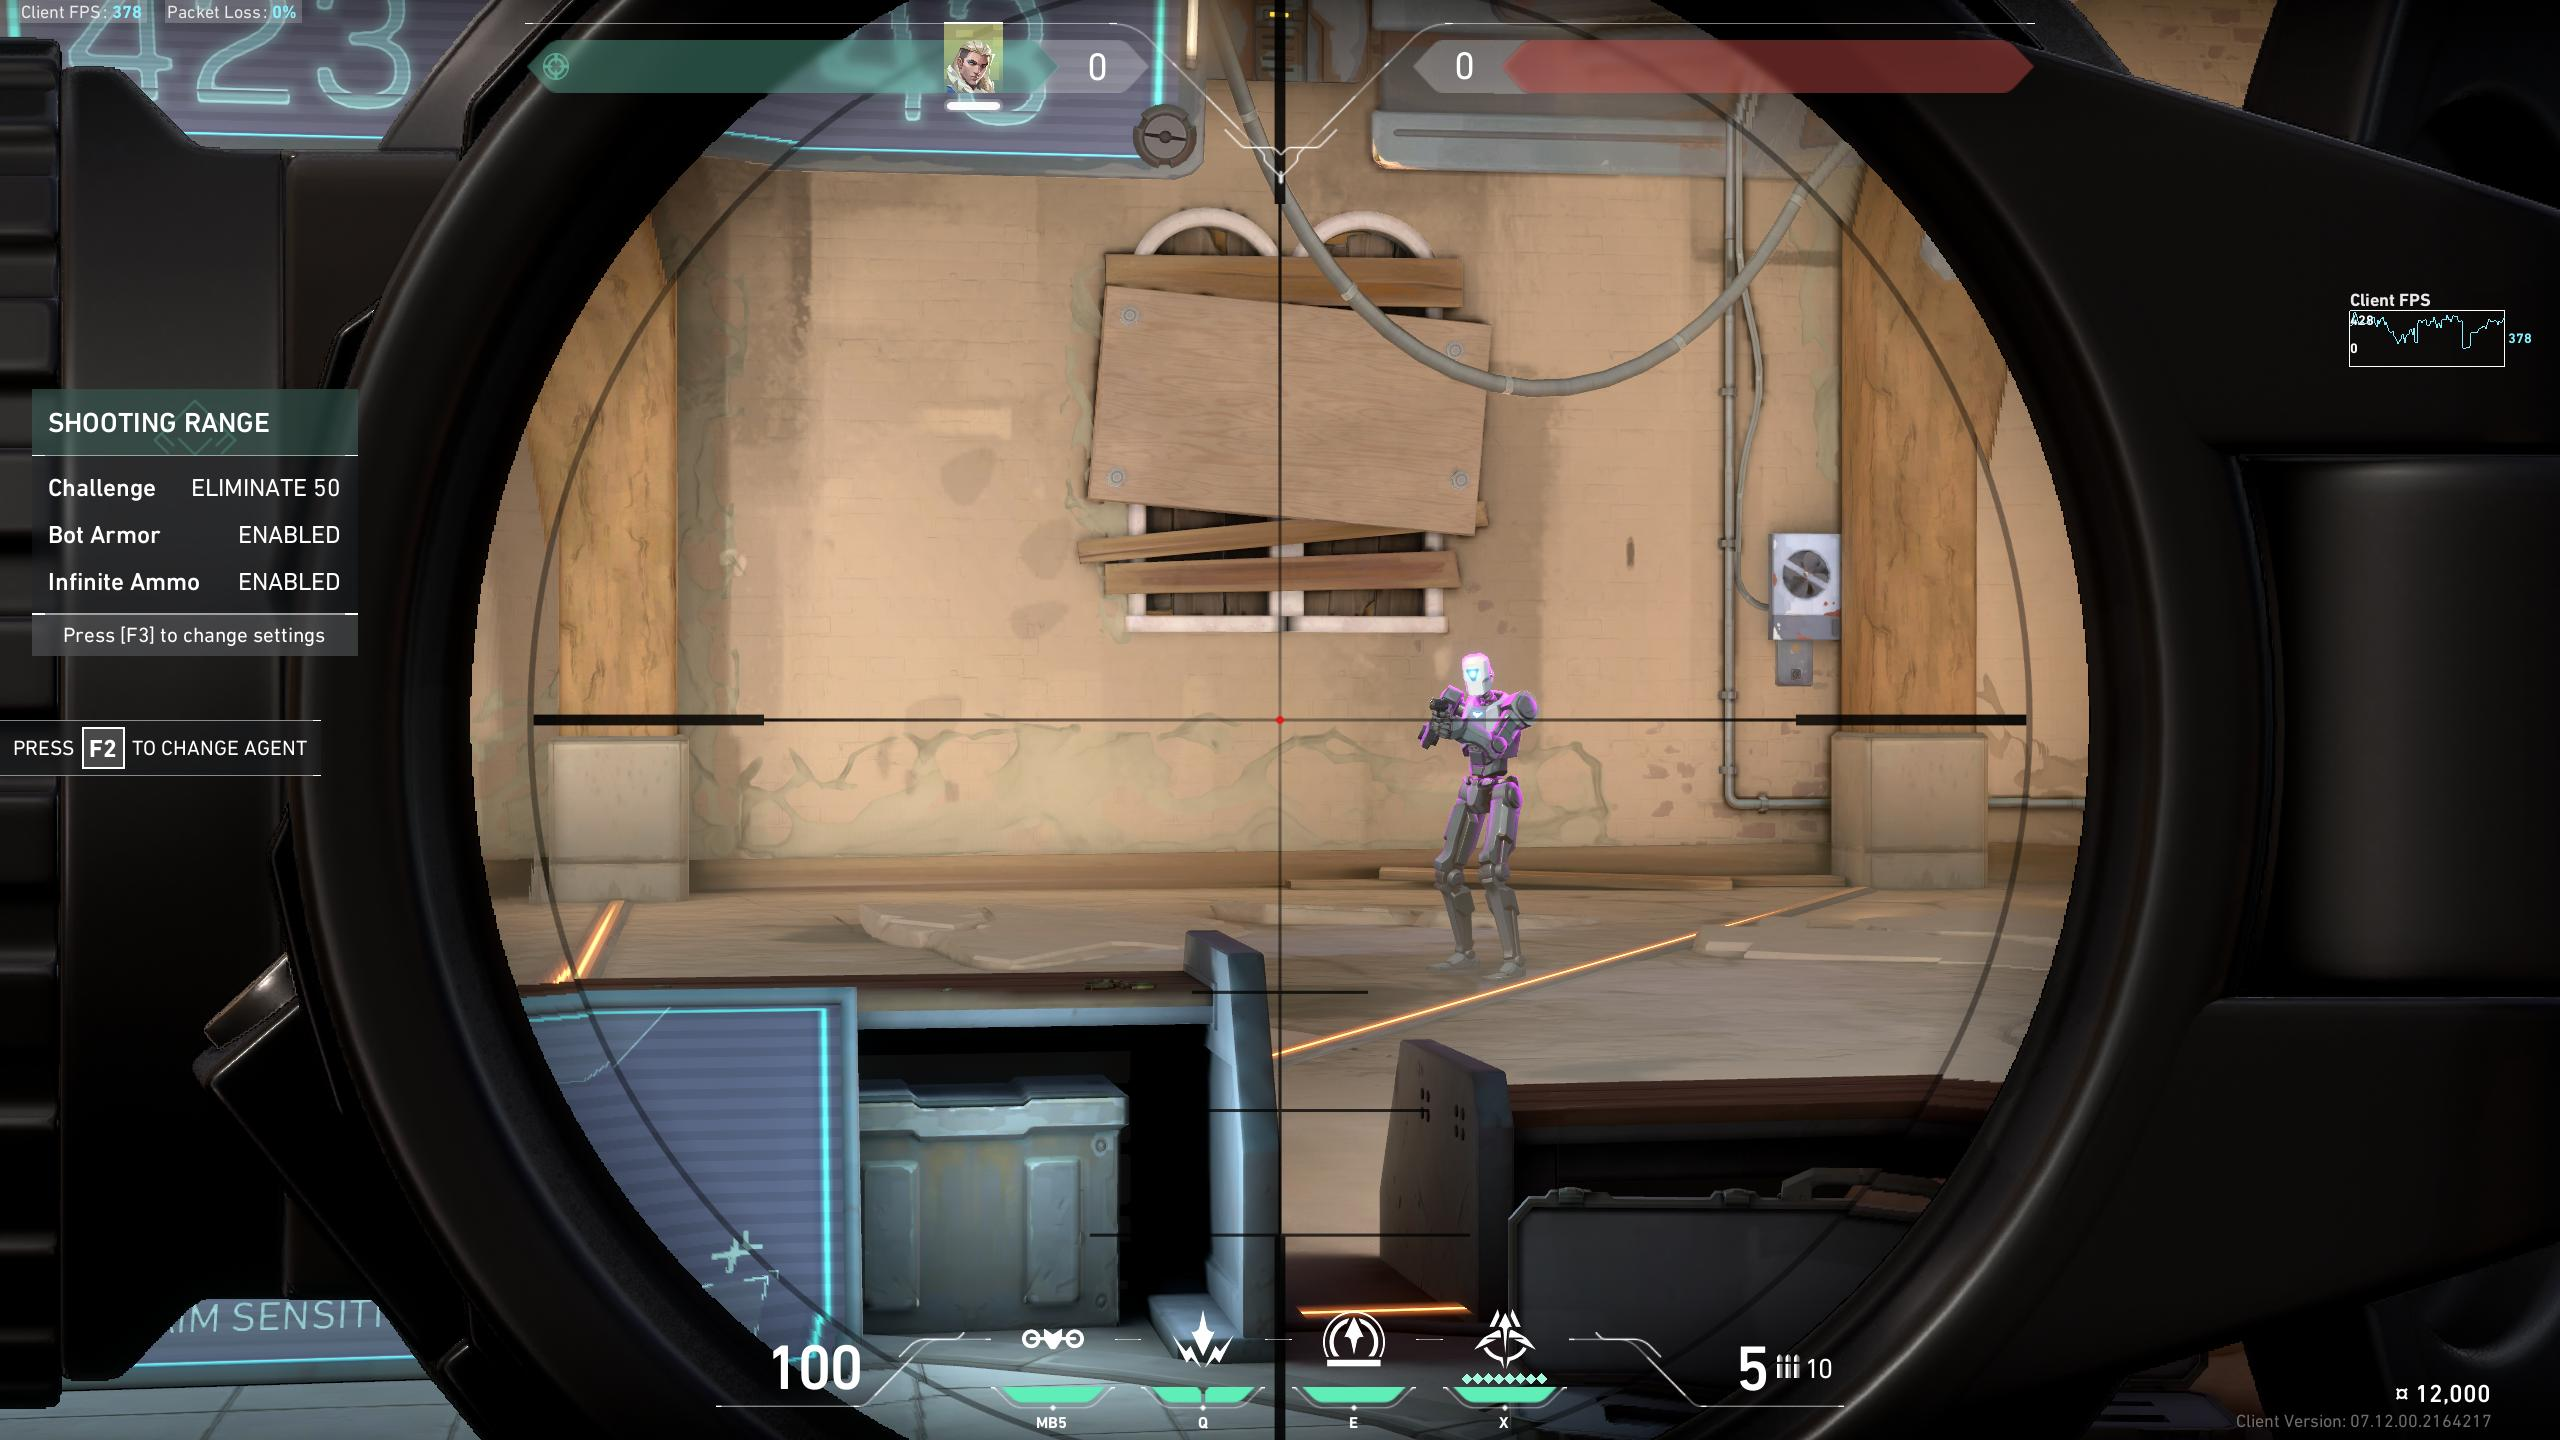enemyBody: (1444, 703, 1528, 777)
enemyHead: (1459, 652, 1505, 702)
